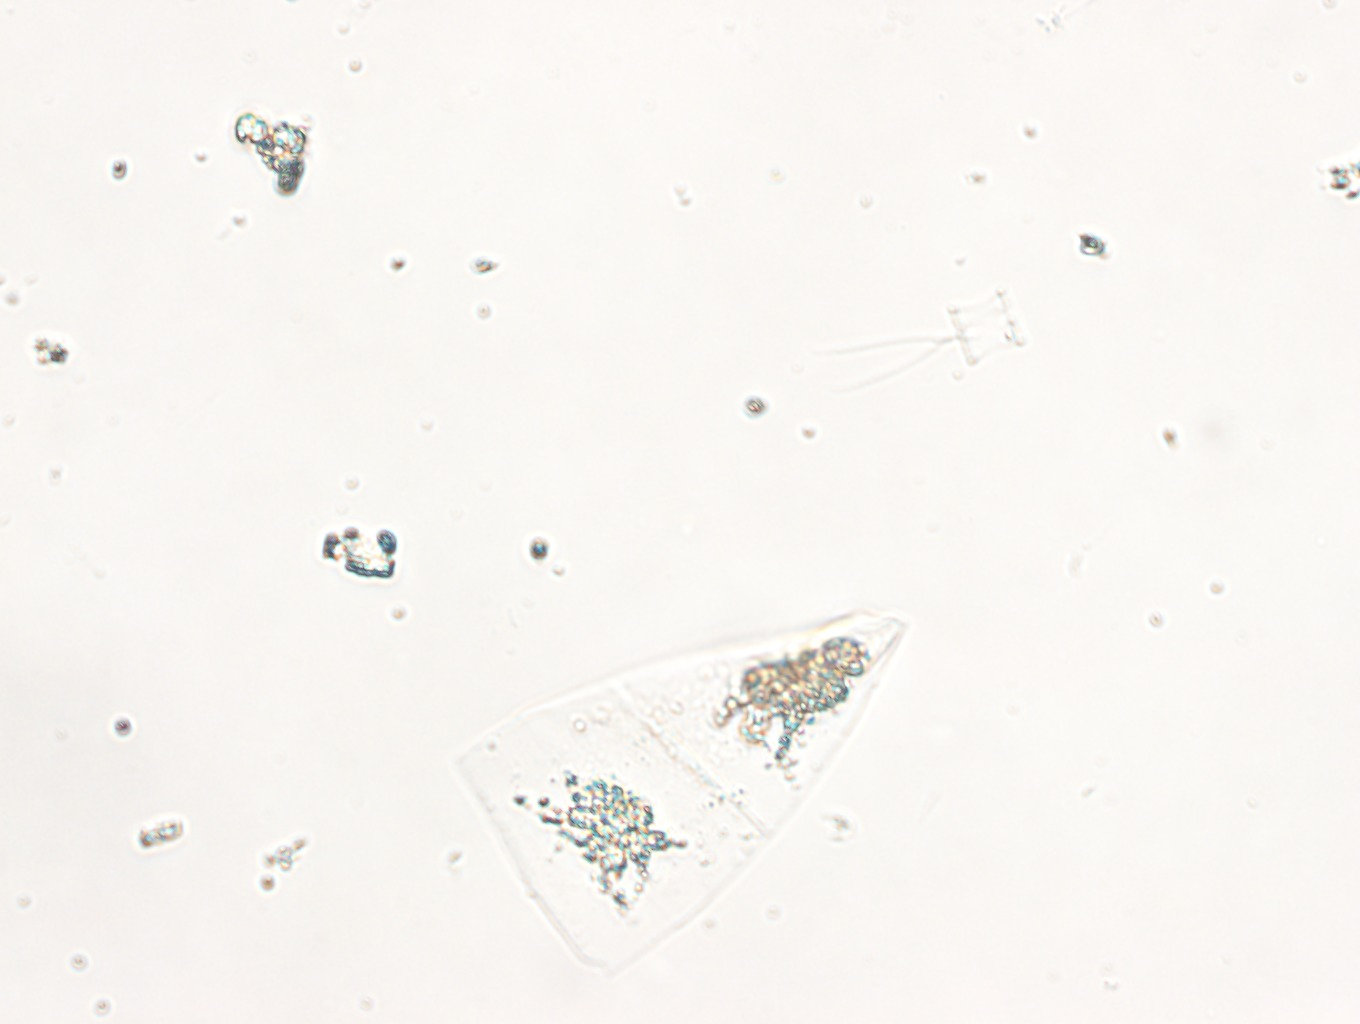chaetoceros: (819, 285, 1027, 395)
helicotheca: (454, 606, 910, 977)
